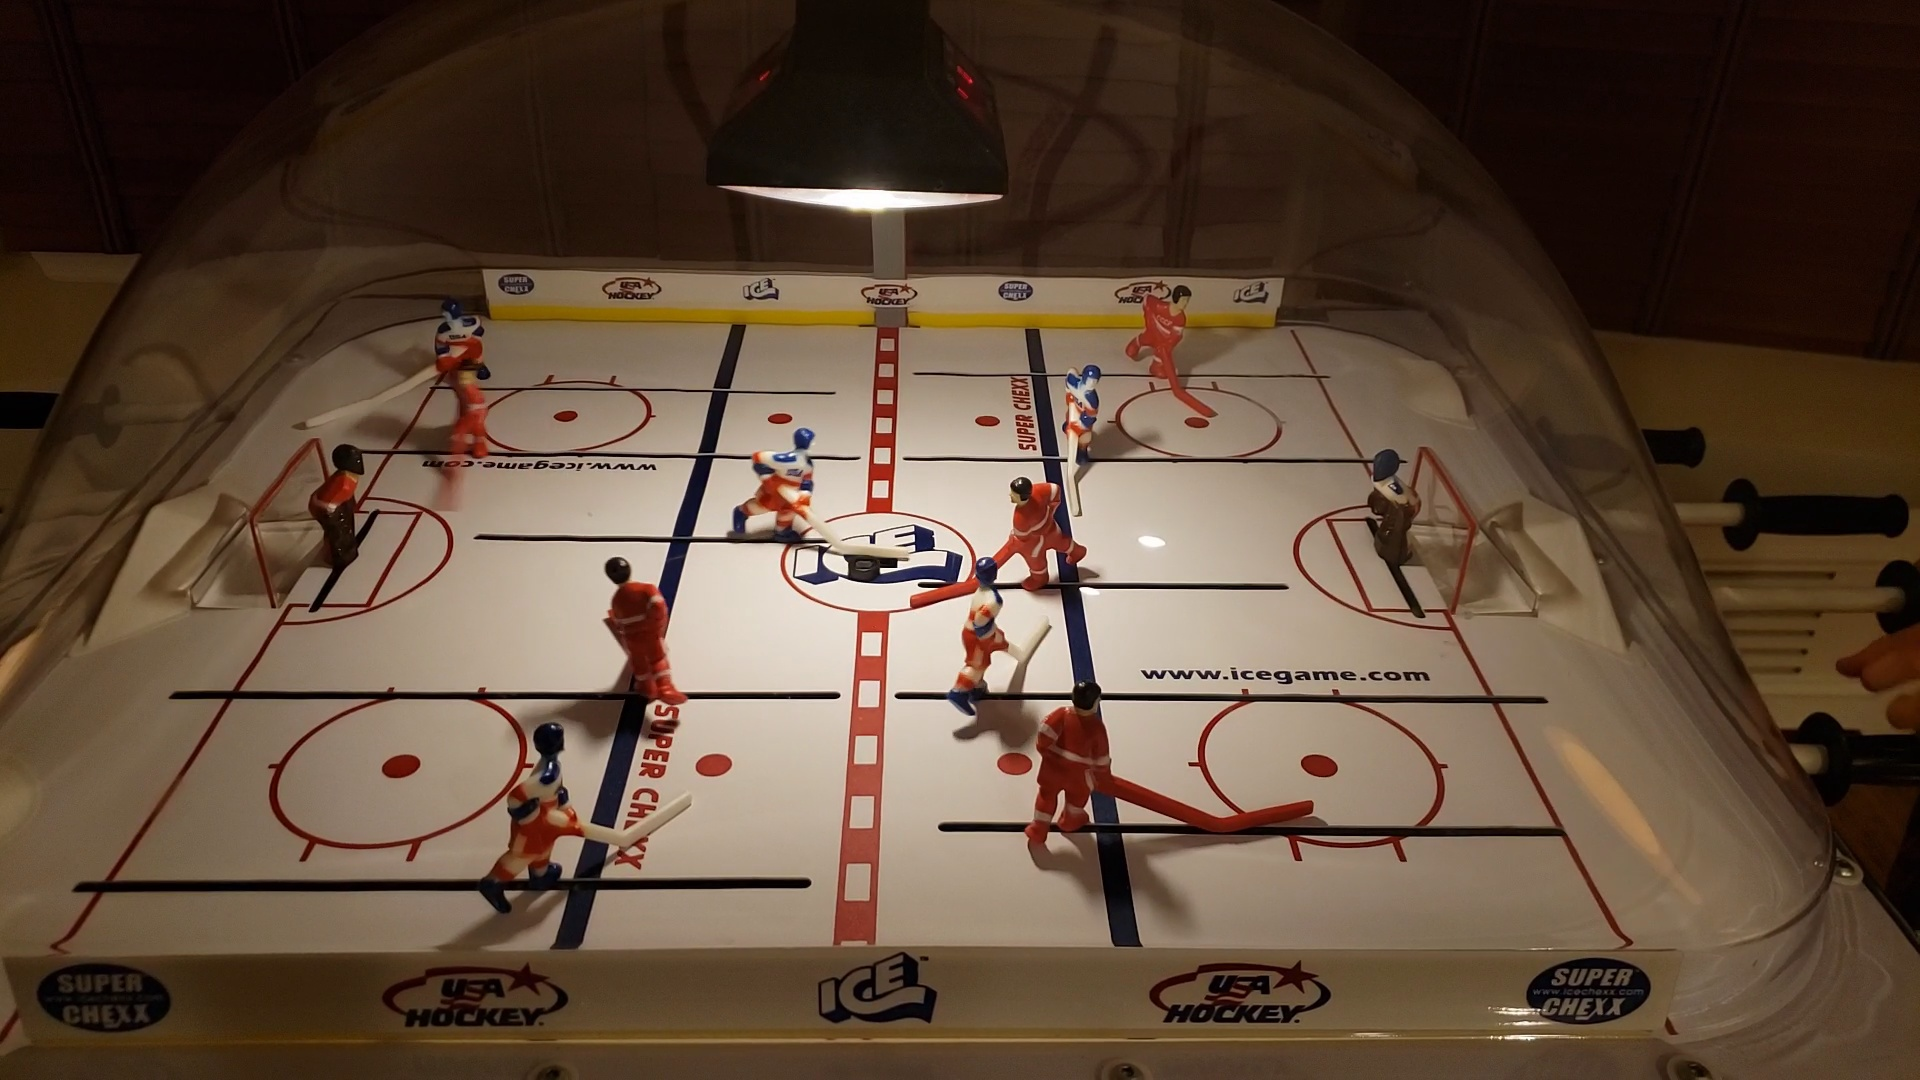puck: (843, 558, 882, 583)
